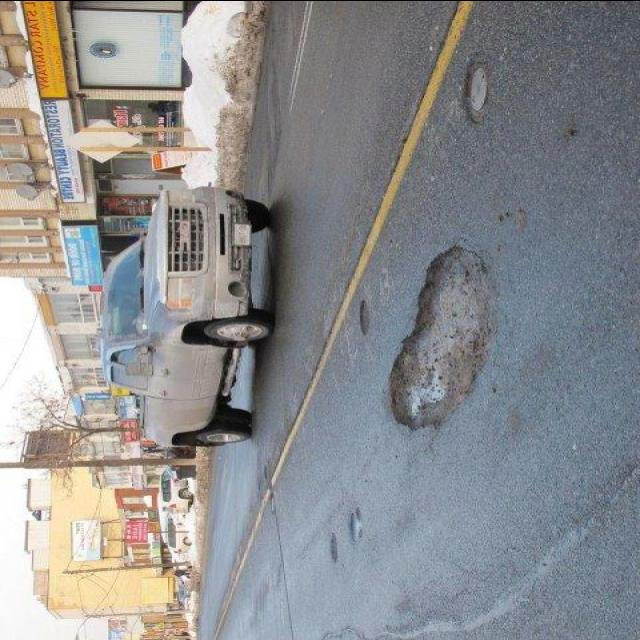jalan retak: (562, 449, 640, 572)
lubang: (375, 237, 505, 432), (458, 56, 503, 124), (339, 499, 365, 545), (257, 457, 282, 502), (352, 296, 372, 342), (323, 525, 341, 561)
